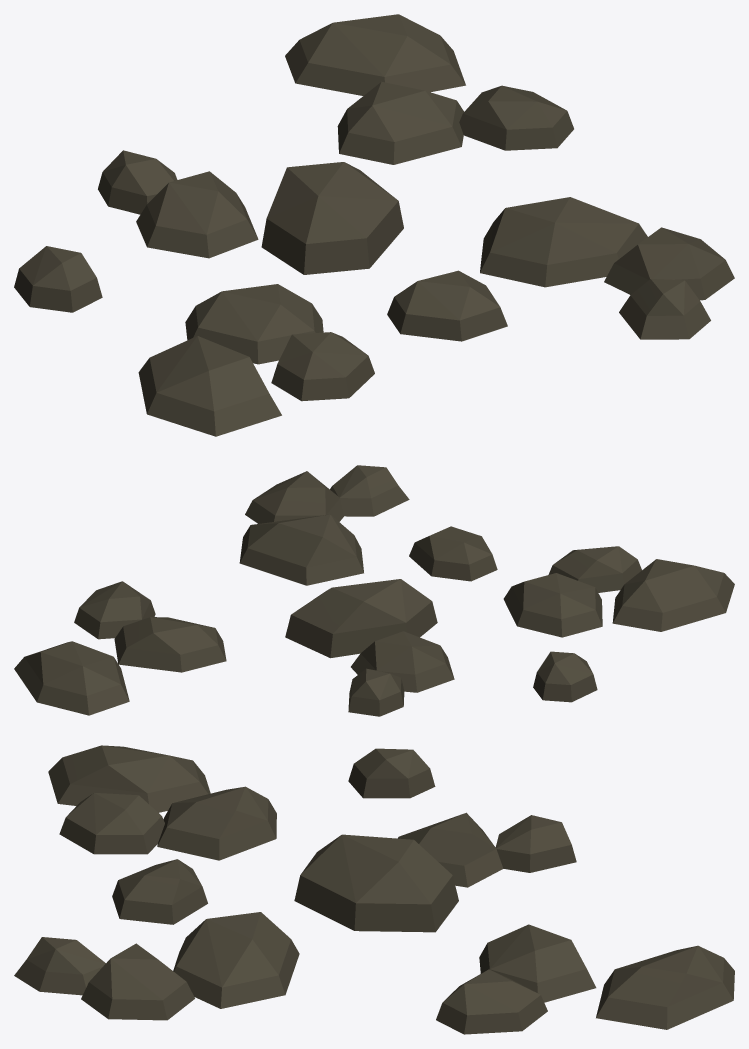
File: rock__pebbles3_caves_dark.glb
3 views of the same model, one above another, from view 1: azimuth 30°, elevation 25°; view 2: azimuth 150°, elevation 25°; view 3: azimuth 270°, elevation 25° (orthographic). The views are drawn at different scales.
Parts seen in each view (by area): view 1: pebbles3.caves.dark; view 2: pebbles3.caves.dark; view 3: pebbles3.caves.dark.
Boxes of the visible parts, box(x1,y1,x2,y2) form: pebbles3.caves.dark: box(14, 14, 734, 436); pebbles3.caves.dark: box(14, 465, 734, 716); pebbles3.caves.dark: box(14, 745, 734, 1034).
Bounding box in the file's own units: 2.31 × 0.2169 × 2.56.
1 material, 1 textured.
